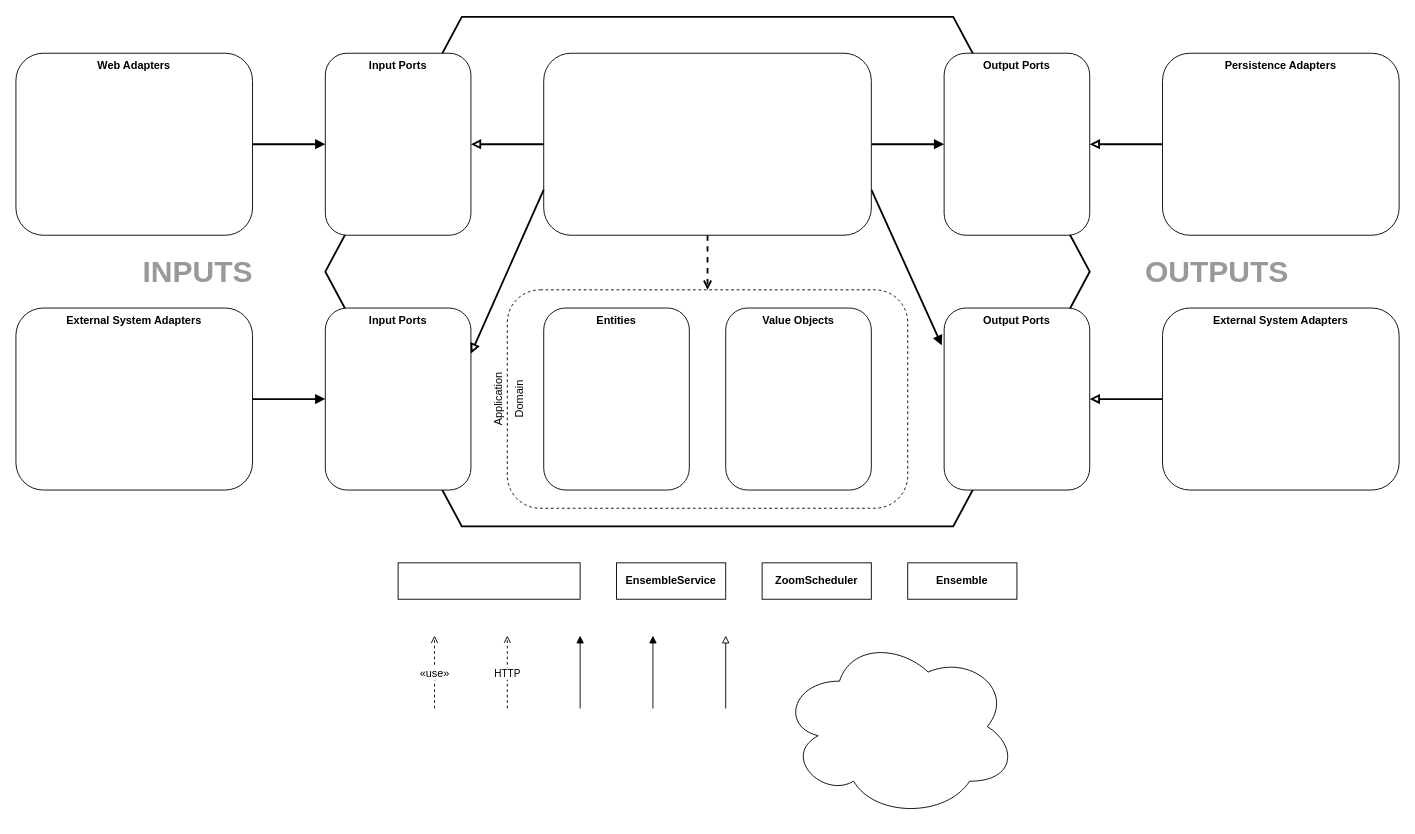
Image size: 1415x834. Some labels were removed from this diagram. Here are the shapes that lost their labels. From the top down, the centre of each, then its label:
(x=707, y=143): Services
(x=488, y=580): «interface» VideoConferenceScheduler
(x=898, y=726): Zoom API
